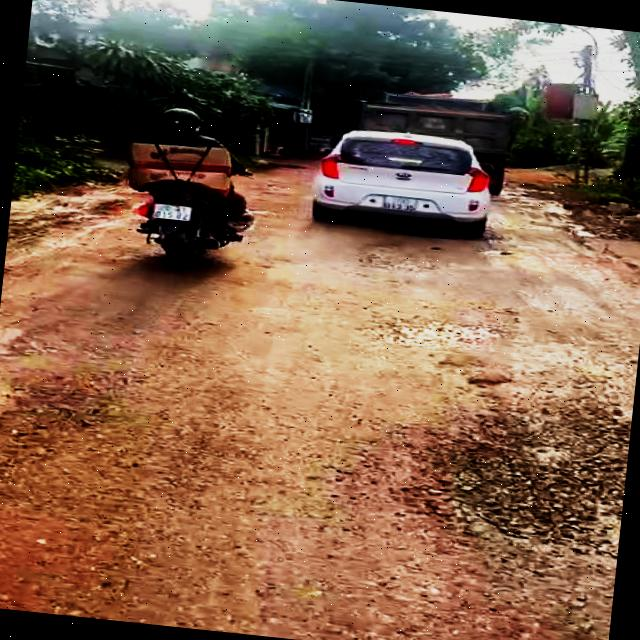pothole: (407, 395, 632, 566)
